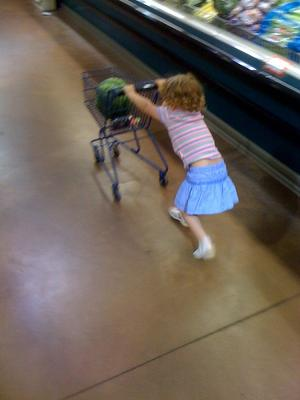person: (126, 71, 237, 262)
